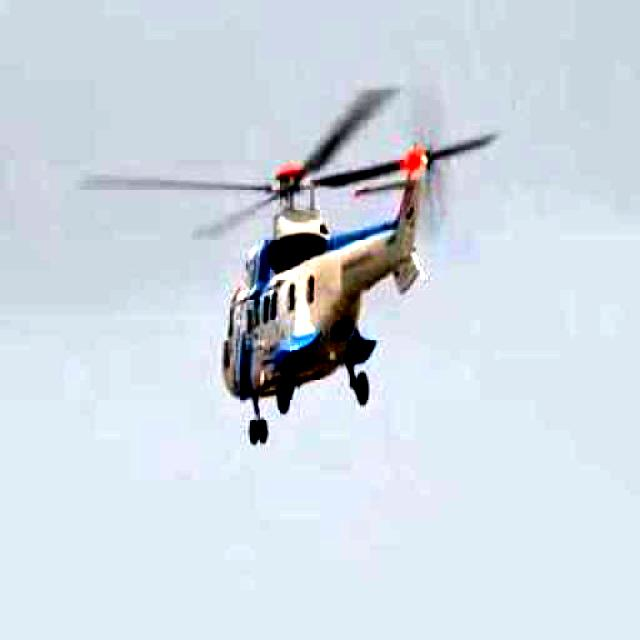drone: (58, 49, 551, 458)
